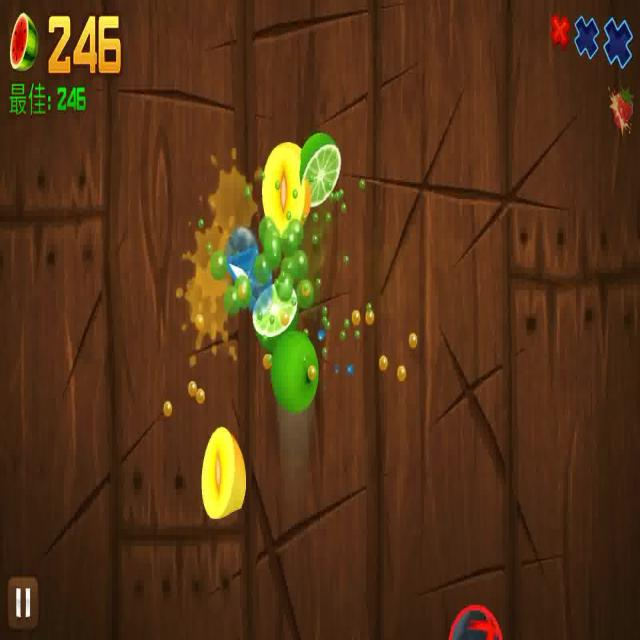bomb: (443, 602, 509, 640)
fruit: (198, 424, 248, 520), (262, 140, 312, 235), (270, 332, 321, 416), (253, 281, 300, 350), (302, 128, 338, 212)
